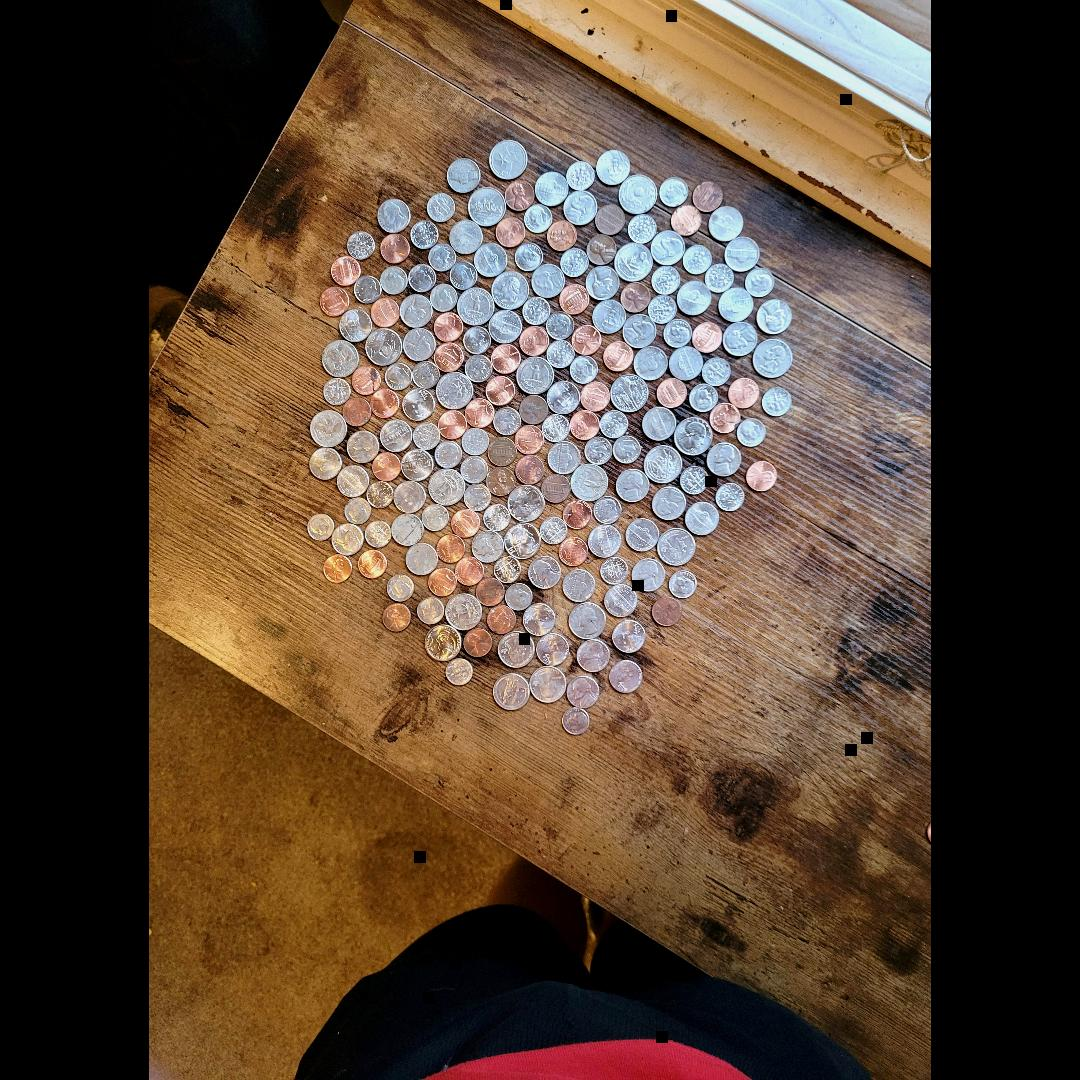Dime: (660, 176, 690, 208), (747, 268, 775, 298), (567, 162, 595, 192), (705, 264, 734, 292), (628, 214, 656, 243), (462, 428, 490, 456), (614, 436, 642, 464), (716, 483, 744, 511), (763, 388, 791, 416), (738, 418, 766, 446), (691, 384, 719, 412), (570, 356, 598, 384), (464, 326, 492, 354), (684, 245, 712, 273), (652, 266, 680, 294), (649, 296, 677, 324), (450, 262, 478, 290), (428, 244, 456, 272), (408, 264, 436, 292), (355, 276, 383, 304), (524, 205, 552, 233), (601, 410, 628, 439), (664, 319, 691, 348), (670, 570, 697, 598), (540, 516, 567, 544), (386, 362, 413, 390), (412, 220, 439, 248), (324, 378, 351, 406), (430, 284, 457, 311), (562, 708, 590, 734), (446, 659, 474, 685), (484, 504, 510, 532), (422, 504, 448, 532), (414, 422, 440, 450), (544, 414, 570, 442), (704, 357, 730, 385), (548, 340, 574, 368), (547, 312, 575, 338), (562, 249, 588, 277), (516, 242, 542, 270), (348, 231, 374, 259), (428, 194, 454, 222), (387, 574, 413, 601), (601, 558, 628, 584), (367, 481, 393, 508), (494, 408, 520, 435), (586, 437, 612, 464), (681, 468, 708, 494), (466, 356, 493, 382), (418, 598, 444, 624), (495, 557, 521, 583), (308, 514, 334, 540), (366, 521, 392, 547), (344, 498, 370, 524), (465, 484, 491, 510), (462, 457, 488, 483), (436, 442, 462, 468), (413, 362, 439, 388), (524, 298, 550, 324), (381, 268, 407, 294), (594, 498, 620, 524), (506, 584, 532, 610)
Nickel: (650, 230, 686, 266), (708, 206, 744, 241), (668, 346, 704, 381), (474, 242, 508, 278), (718, 288, 754, 322), (592, 299, 626, 335), (706, 442, 742, 476), (758, 299, 792, 335), (596, 150, 632, 184), (564, 190, 598, 226), (726, 237, 760, 272), (634, 346, 668, 381), (623, 313, 657, 348), (448, 159, 482, 194), (531, 264, 565, 298), (586, 266, 620, 300), (402, 327, 436, 361), (398, 294, 432, 328), (562, 569, 596, 603), (652, 486, 686, 520), (677, 282, 711, 316), (449, 220, 483, 254), (489, 308, 521, 344), (644, 406, 676, 442), (588, 526, 623, 558), (723, 323, 755, 357), (548, 381, 580, 415), (340, 309, 372, 343), (391, 514, 425, 546), (686, 501, 718, 535), (605, 584, 637, 618), (524, 603, 556, 637), (617, 468, 649, 502), (528, 556, 562, 588), (536, 171, 568, 205), (404, 387, 436, 421), (537, 634, 569, 667), (633, 559, 665, 592), (613, 620, 645, 653), (380, 420, 412, 452), (402, 449, 434, 481), (309, 448, 341, 480), (548, 442, 580, 474), (626, 519, 658, 551), (567, 676, 599, 708), (578, 640, 610, 672), (610, 660, 642, 692), (472, 530, 504, 562), (378, 200, 410, 232), (332, 524, 364, 556), (406, 544, 437, 576), (395, 481, 426, 513), (348, 431, 378, 463), (338, 468, 368, 498)
Penny: (560, 283, 590, 315), (729, 378, 759, 410), (570, 410, 600, 442), (693, 180, 723, 212), (693, 322, 723, 353), (747, 461, 778, 491), (504, 181, 534, 211), (595, 205, 625, 235), (380, 233, 410, 263), (330, 256, 360, 286), (434, 343, 464, 373), (572, 326, 602, 356), (602, 341, 632, 371), (620, 282, 650, 312), (710, 404, 740, 434), (657, 378, 687, 408), (580, 382, 610, 412), (487, 437, 517, 467), (541, 473, 571, 503), (495, 216, 523, 248), (516, 454, 544, 486), (520, 396, 550, 425), (486, 468, 516, 497), (559, 536, 588, 566), (476, 578, 505, 608), (672, 206, 700, 237), (586, 235, 616, 263), (371, 298, 399, 328), (491, 345, 521, 373), (520, 326, 548, 356), (515, 425, 543, 455), (437, 410, 465, 440), (370, 388, 398, 418), (352, 366, 380, 396), (372, 452, 400, 482), (456, 556, 484, 586), (320, 287, 348, 316), (452, 509, 480, 538), (342, 396, 369, 426), (437, 532, 464, 562), (548, 222, 576, 250), (435, 312, 463, 340), (465, 399, 493, 427), (653, 598, 681, 626), (487, 606, 515, 634), (428, 568, 456, 596), (358, 551, 386, 579), (488, 376, 514, 406), (384, 602, 410, 632), (565, 500, 592, 528), (323, 556, 351, 582), (464, 630, 490, 656)
Quarter: (468, 186, 506, 226), (753, 340, 793, 378), (620, 176, 659, 214), (490, 140, 528, 178), (445, 592, 483, 630), (644, 446, 682, 484), (610, 374, 647, 411), (616, 244, 652, 282), (437, 372, 473, 410), (458, 288, 494, 326), (492, 272, 530, 308), (674, 417, 710, 455), (658, 529, 696, 565), (568, 603, 606, 639), (573, 465, 610, 501), (324, 339, 359, 377), (429, 468, 464, 506), (518, 358, 554, 394), (366, 329, 402, 365), (310, 411, 346, 447), (530, 667, 566, 703), (494, 674, 530, 710), (499, 631, 535, 667), (509, 484, 545, 520), (426, 625, 461, 661), (506, 523, 540, 558)
